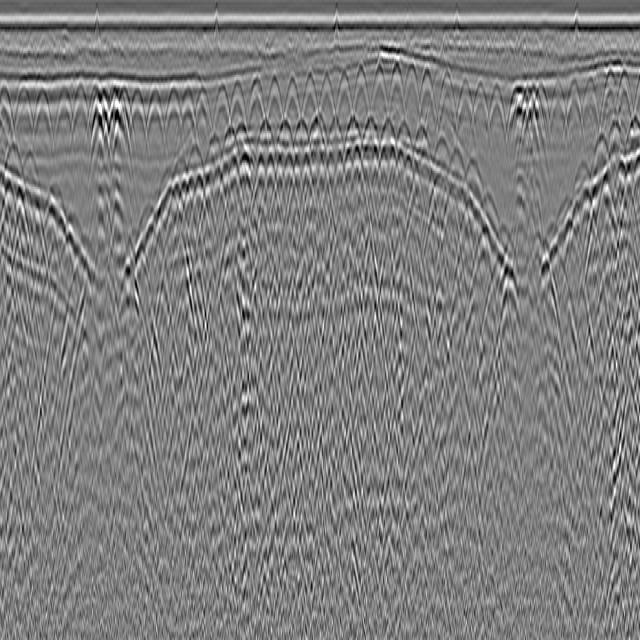hyperbola: (560, 76, 588, 154), (50, 86, 79, 159), (484, 80, 510, 159), (469, 72, 494, 149), (30, 84, 57, 155), (1, 137, 29, 204), (529, 80, 554, 154), (67, 81, 94, 149), (546, 77, 572, 147), (577, 71, 602, 143), (434, 68, 459, 136), (454, 75, 478, 145), (587, 131, 613, 194), (505, 81, 534, 137), (415, 64, 439, 131), (161, 85, 186, 147), (597, 66, 619, 136), (143, 88, 168, 149), (478, 189, 502, 248), (14, 87, 37, 147), (20, 149, 43, 208), (494, 222, 518, 277), (263, 73, 286, 129), (126, 89, 150, 142), (177, 87, 200, 142), (463, 154, 485, 208), (283, 76, 303, 135), (247, 75, 268, 131), (192, 84, 214, 137), (401, 63, 423, 116), (119, 83, 136, 149), (227, 79, 249, 129), (388, 59, 407, 116), (342, 110, 365, 157), (446, 142, 468, 190), (350, 61, 371, 111), (254, 117, 277, 161), (212, 83, 233, 130), (292, 119, 314, 163), (429, 133, 452, 175), (301, 68, 320, 118), (371, 60, 388, 112), (336, 69, 355, 115), (0, 85, 16, 138), (615, 67, 634, 111), (360, 115, 380, 151), (319, 72, 336, 112), (327, 112, 344, 149), (415, 124, 432, 159), (397, 117, 413, 154), (222, 124, 240, 156), (307, 115, 324, 147), (276, 118, 293, 149), (204, 132, 221, 160), (625, 114, 640, 143), (187, 142, 203, 166), (381, 116, 396, 140), (234, 123, 249, 140)
